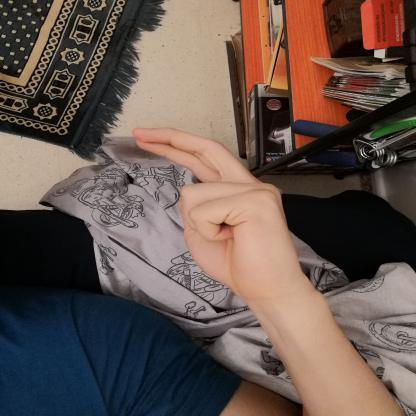ZAY: (122, 116, 309, 305)
